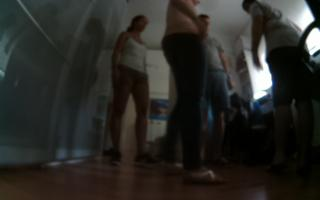person: (161, 1, 236, 190), (240, 1, 313, 186), (108, 11, 159, 167), (196, 10, 240, 169)
